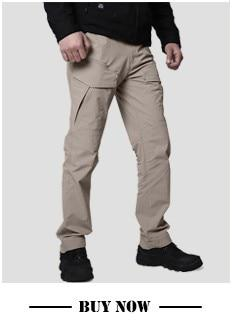pants: (57, 35, 176, 249)
